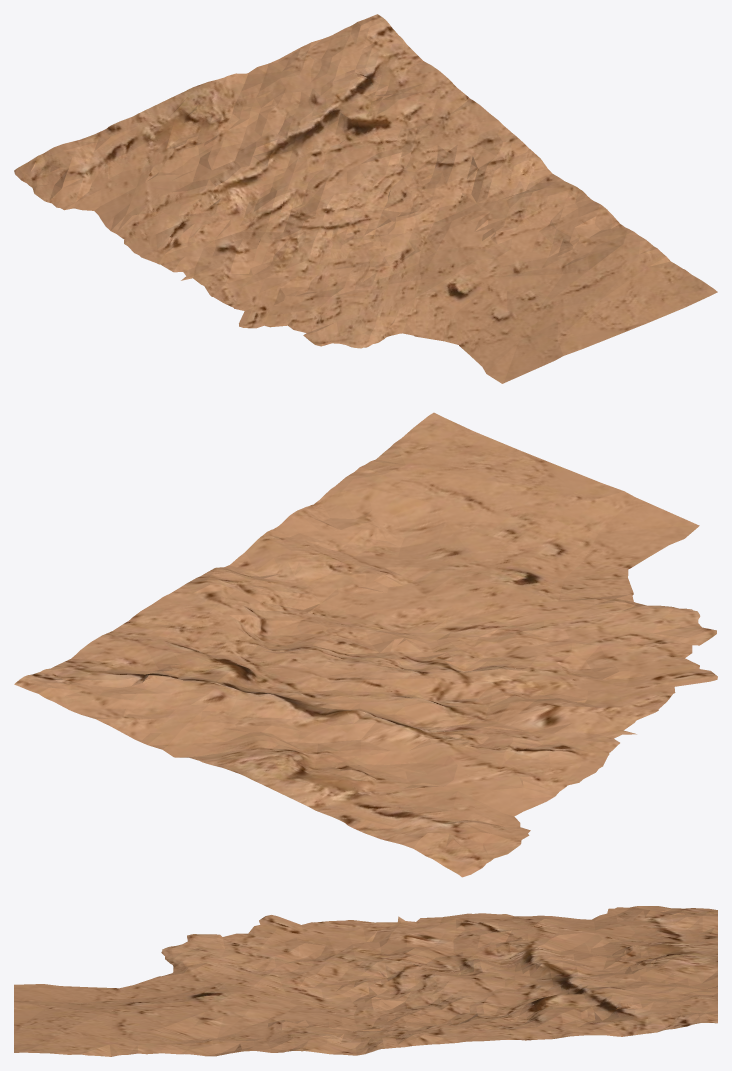
3 views of the same model, one above another, from view 1: azimuth 30°, elevation 25°; view 2: azimuth 150°, elevation 25°; view 3: azimuth 270°, elevation 25° (orthographic). The views are drawn at different scales.
Bounding box in the file's own units: 0.6585 × 0.1158 × 1.04.
Materials: 2 (2 with a texture image).
